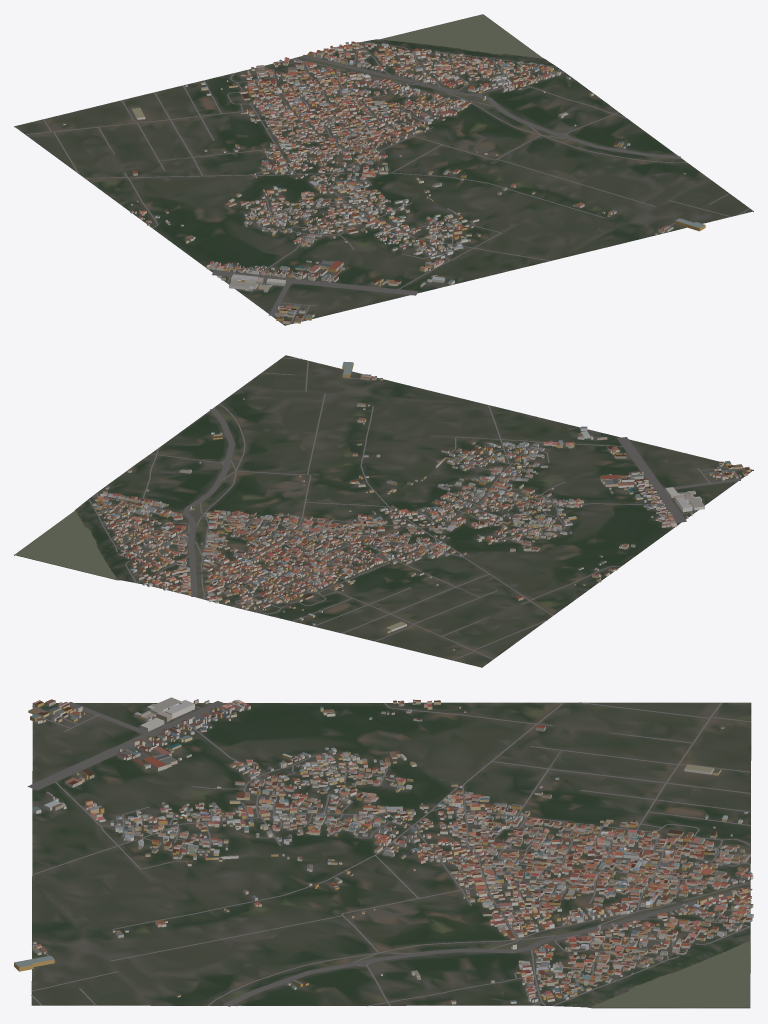
The picture shows the model from 3 angles, top to bottom: view 1: azimuth 30°, elevation 25°; view 2: azimuth 150°, elevation 25°; view 3: azimuth 270°, elevation 25°; orthographic projection. The views are drawn at different scales.
Visible parts, largest first — view 1: ground, buildings, roads, water; view 2: ground, buildings, roads, water; view 3: ground, buildings, roads, water.
Boxes of the visible parts, x1,y1,x2,y2 form: ground: (14, 15, 753, 325); buildings: (63, 41, 705, 324); roads: (25, 42, 749, 324); water: (380, 14, 542, 58); ground: (14, 355, 753, 667); buildings: (92, 361, 750, 650); roads: (88, 357, 744, 660); water: (15, 511, 117, 579); ground: (31, 702, 751, 1008); buildings: (14, 697, 753, 1004); roads: (27, 701, 752, 1006); water: (590, 941, 749, 1007).
Bounding box in the file's own units: 1413 × 19.46 × 1444.
